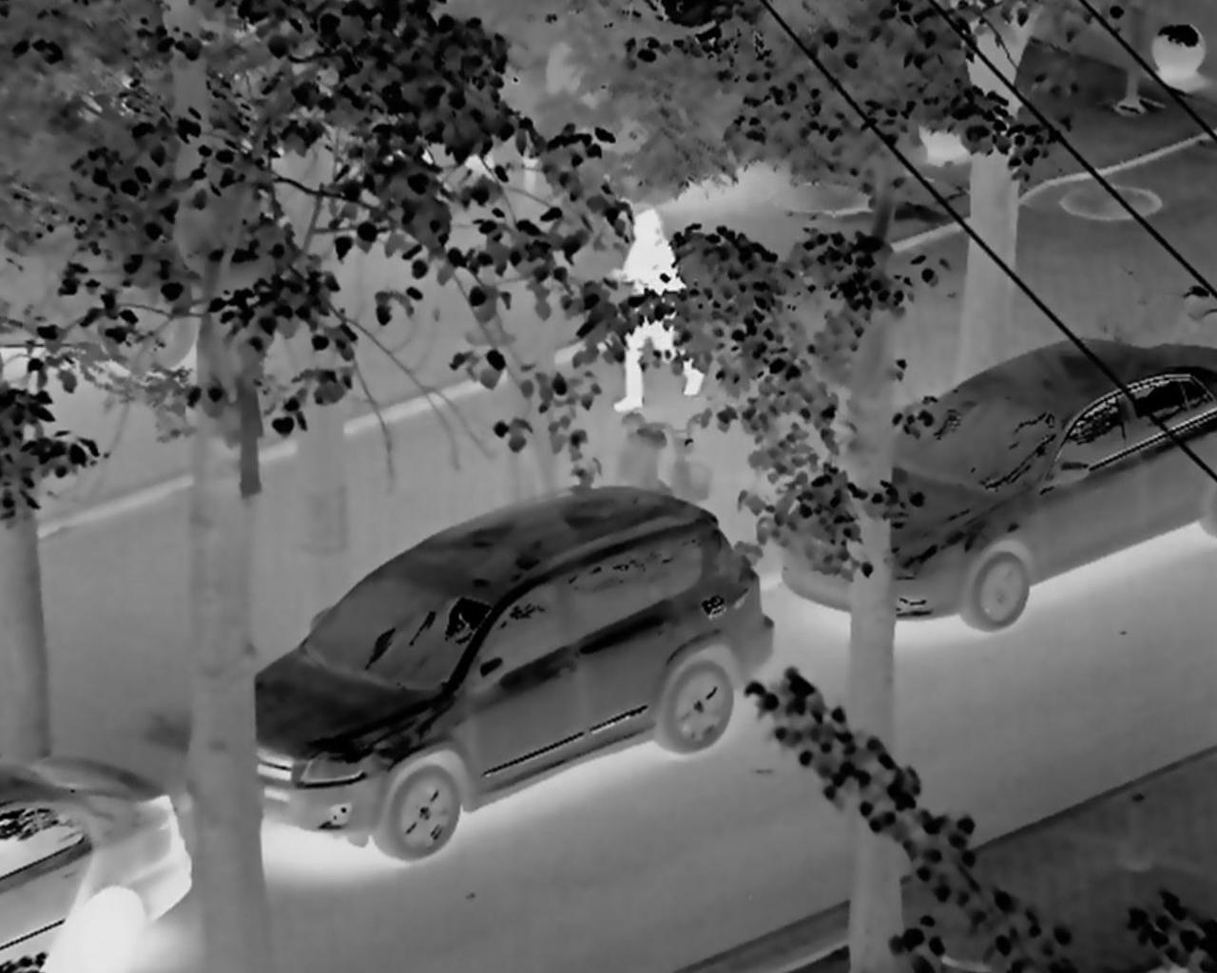person: (601, 204, 703, 410)
